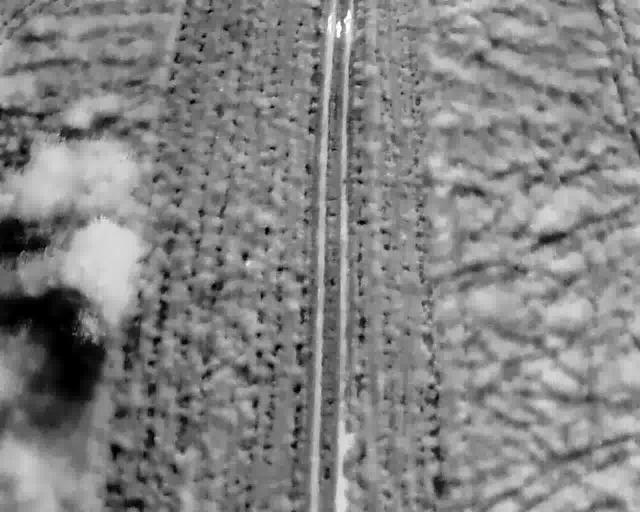person: (344, 10, 351, 34), (335, 21, 341, 37), (327, 13, 332, 31)
